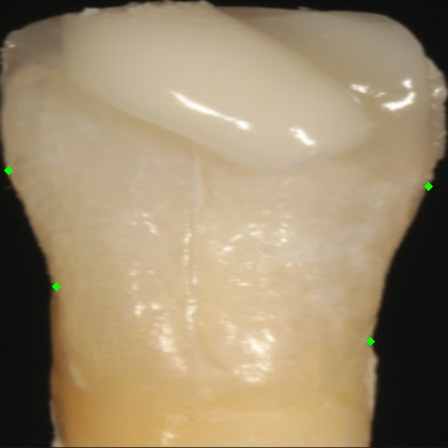coin_1: (370, 341, 390, 361)
coin_2: (428, 186, 448, 206)
coin_3: (56, 286, 76, 306)
coin_4: (8, 170, 28, 190)
